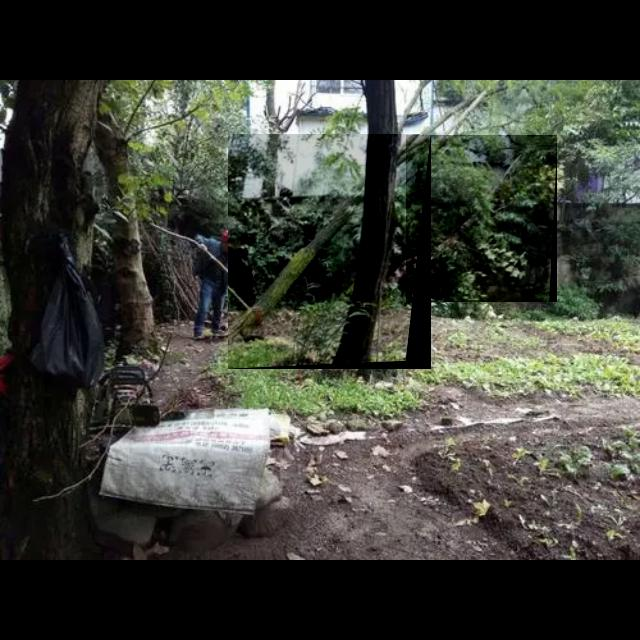Fallen Tree: (228, 134, 432, 370), (406, 135, 558, 303)
